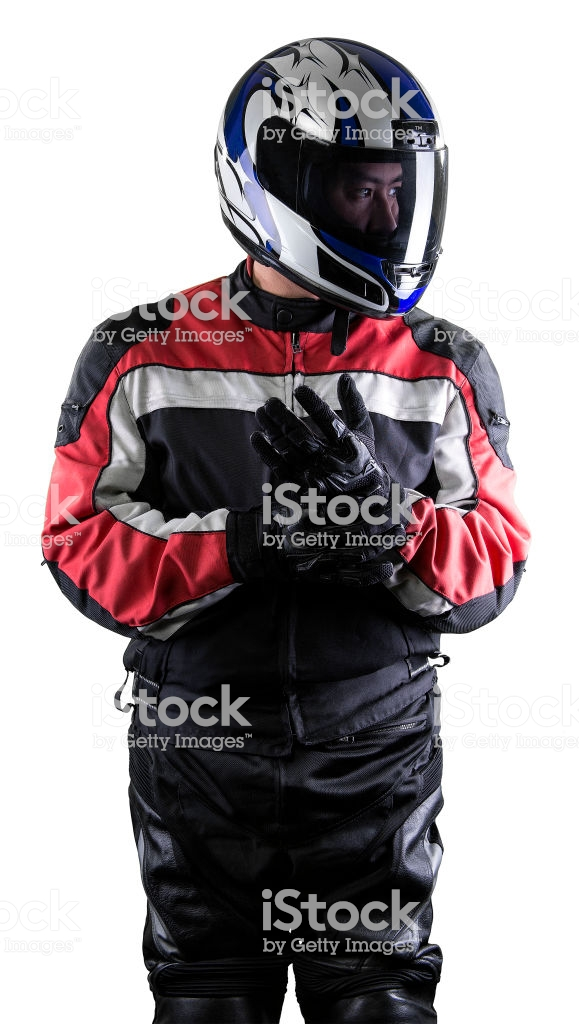helmet: (209, 37, 475, 332)
